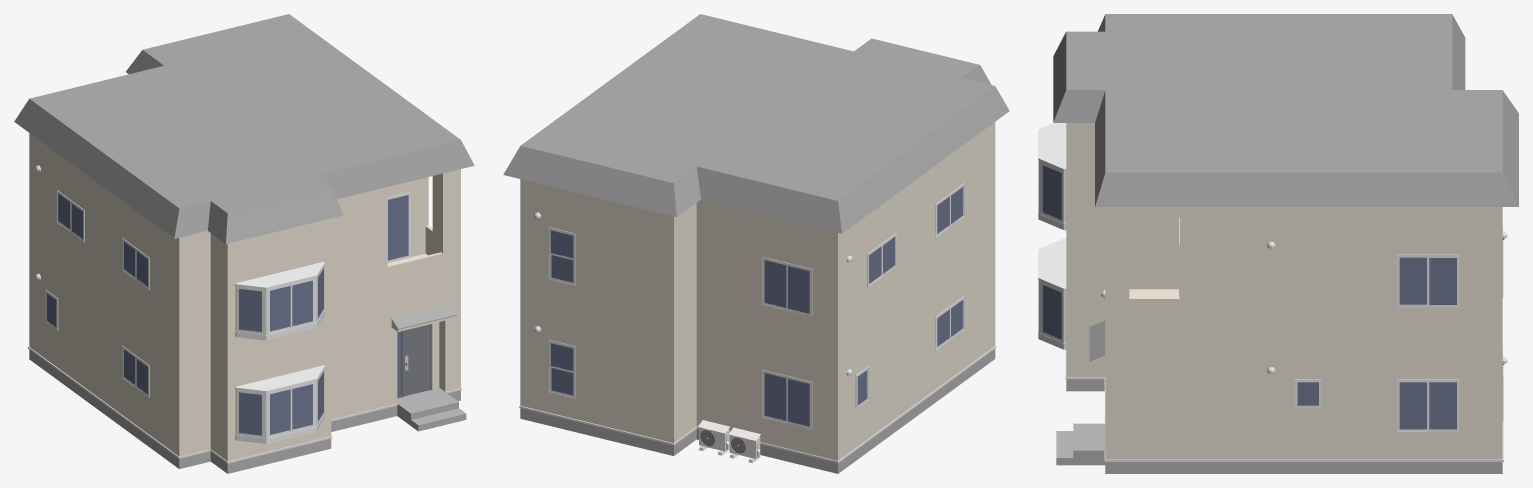
Rendered from MobHouse10.fbx.
3 renders of one model, left to right at view 1: azimuth 30°, elevation 25°; view 2: azimuth 150°, elevation 25°; view 3: azimuth 270°, elevation 25°, orthographic. The views are drawn at different scales.
Parts seen in each view (by area): view 1: Flat_half_house01.010; view 2: Flat_half_house01.010; view 3: Flat_half_house01.010.
Boxes of the visible parts, x1,y1,x2,y2 form: Flat_half_house01.010: (14,14,474,473); Flat_half_house01.010: (503,14,1009,473); Flat_half_house01.010: (1038,14,1518,473).
Bounding box in the file's own units: 8.19 × 6.79 × 9.82.
